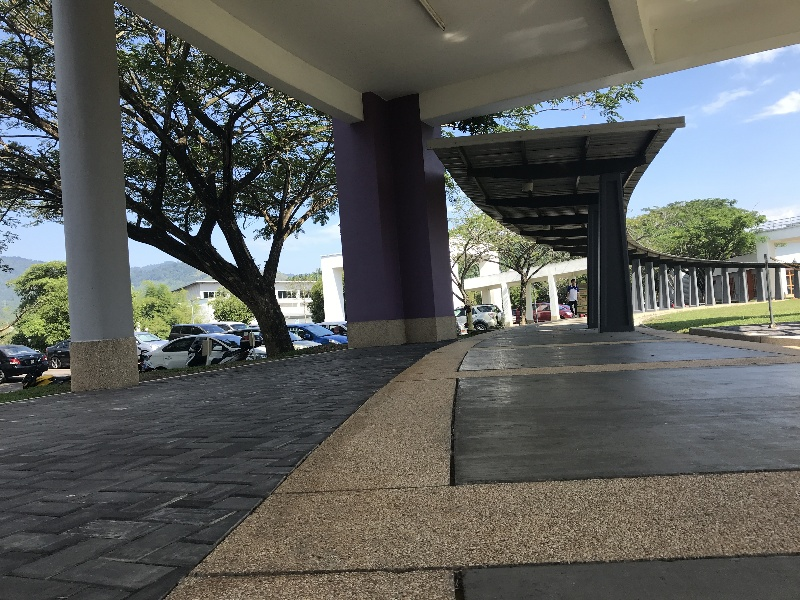Block D Pillar 5: (4, 10, 798, 561)
pillar: (51, 3, 154, 389), (316, 92, 475, 342), (579, 163, 648, 341)
